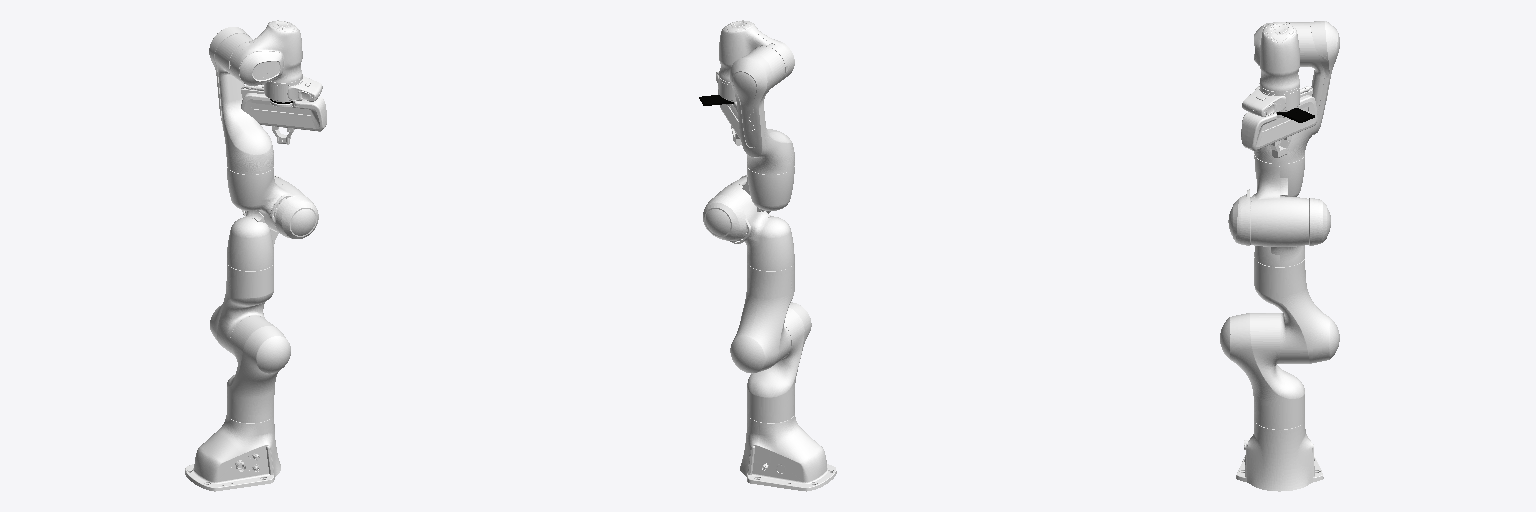
The robot description file, URDF, robot "panda":
<?xml version="1.0" ?>
<!-- =================================================================================== -->
<!-- |    This document was autogenerated by xacro from panda_arm_hand.urdf.xacro      | -->
<!-- |    EDITING THIS FILE BY HAND IS NOT RECOMMENDED                                 | -->
<!-- =================================================================================== -->
<robot name="panda" xmlns:xacro="http://www.ros.org/wiki/xacro">
  <link name="panda_link0">
  	<inertial>
      <origin rpy="0 0 0" xyz="0 0 0.05"/>
       <mass value="2.9"/>
       <inertia ixx="0.1" ixy="0" ixz="0" iyy="0.1" iyz="0" izz="0.1"/>
    </inertial>
    <visual>
      <geometry>
        <mesh filename="package://meshes/visual/link0.obj"/>
      </geometry>
      <material name="panda_white">
    		<color rgba="1. 1. 1. 1."/>
  		</material>
    </visual>
    <collision>
      <geometry>
        <mesh filename="package://meshes/collision/link0.obj"/>
      </geometry>
      <material name="panda_white"/>
    </collision>
  </link>
  <link name="panda_link1">
  	<inertial>
      <origin rpy="0 0 0" xyz="0 -0.04 -0.05"/>
       <mass value="2.7"/>
       <inertia ixx="0.1" ixy="0" ixz="0" iyy="0.1" iyz="0" izz="0.1"/>
    </inertial>
    <visual>
      <geometry>
        <mesh filename="package://meshes/visual/link1.obj"/>
      </geometry>
      <material name="panda_white"/>
    </visual>
    <collision>
      <geometry>
        <mesh filename="package://meshes/collision/link1.obj"/>
      </geometry>
      <material name="panda_white"/>
    </collision>
  </link>
  <joint name="panda_joint1" type="revolute">
    <safety_controller k_position="100.0" k_velocity="40.0" soft_lower_limit="-2.8973" soft_upper_limit="2.8973"/>
    <origin rpy="0 0 0" xyz="0 0 0.333"/>
    <parent link="panda_link0"/>
    <child link="panda_link1"/>
    <axis xyz="0 0 1"/>
    <limit effort="87" lower="-2.9671" upper="2.9671" velocity="2.1750"/>
  </joint>
  <link name="panda_link2">
  	<inertial>
      <origin rpy="0 0 0" xyz="0 -0.04 0.06"/>
       <mass value="2.73"/>
       <inertia ixx="0.1" ixy="0" ixz="0" iyy="0.1" iyz="0" izz="0.1"/>
    </inertial>
    <visual>
      <geometry>
        <mesh filename="package://meshes/visual/link2.obj"/>
      </geometry>
      <material name="panda_white"/>
    </visual>
    <collision>
      <geometry>
        <mesh filename="package://meshes/collision/link2.obj"/>
      </geometry>
      <material name="panda_white"/>
    </collision>
  </link>
  <joint name="panda_joint2" type="revolute">
    <safety_controller k_position="100.0" k_velocity="40.0" soft_lower_limit="-1.7628" soft_upper_limit="1.7628"/>
    <origin rpy="-1.57079632679 0 0" xyz="0 0 0"/>
    <parent link="panda_link1"/>
    <child link="panda_link2"/>
    <axis xyz="0 0 1"/>
    <limit effort="87" lower="-1.8326" upper="1.8326" velocity="2.1750"/>
  </joint>
  <link name="panda_link3">
	  <inertial>
      <origin rpy="0 0 0" xyz="0.01 0.01 -0.05"/>
       <mass value="2.04"/>
       <inertia ixx="0.1" ixy="0" ixz="0" iyy="0.1" iyz="0" izz="0.1"/>
    </inertial>
    <visual>
      <geometry>
        <mesh filename="package://meshes/visual/link3.obj"/>
      </geometry>
      <material name="panda_red">
    		<color rgba="1. 1. 1. 1."/>
  		</material>
    </visual>
    <collision>
      <geometry>
        <mesh filename="package://meshes/collision/link3.obj"/>
      </geometry>
    </collision>
  </link>
  <joint name="panda_joint3" type="revolute">
    <safety_controller k_position="100.0" k_velocity="40.0" soft_lower_limit="-2.8973" soft_upper_limit="2.8973"/>
    <origin rpy="1.57079632679 0 0" xyz="0 -0.316 0"/>
    <parent link="panda_link2"/>
    <child link="panda_link3"/>
    <axis xyz="0 0 1"/>
    <limit effort="87" lower="-2.9671" upper="2.9671" velocity="2.1750"/>
  </joint>
  <link name="panda_link4">
  	<inertial>
      <origin rpy="0 0 0" xyz="-0.03 0.03 0.02"/>
       <mass value="2.08"/>
       <inertia ixx="0.1" ixy="0" ixz="0" iyy="0.1" iyz="0" izz="0.1"/>
    </inertial>
    <visual>
      <geometry>
        <mesh filename="package://meshes/visual/link4.obj"/>
      </geometry>
      <material name="panda_white"/>
    </visual>
    <collision>
      <geometry>
        <mesh filename="package://meshes/collision/link4.obj"/>
      </geometry>
      <material name="panda_white"/>
    </collision>
  </link>
  <joint name="panda_joint4" type="revolute">
    <safety_controller k_position="100.0" k_velocity="40.0" soft_lower_limit="-3.0718" soft_upper_limit="-0.0698"/>
    <origin rpy="1.57079632679 0 0" xyz="0.0825 0 0"/>
    <parent link="panda_link3"/>
    <child link="panda_link4"/>
    <axis xyz="0 0 1"/>
    <limit effort="87" lower="-3.1416" upper="0.0" velocity="2.1750"/>
  </joint>
  <link name="panda_link5">
  	<inertial>
      <origin rpy="0 0 0" xyz="0 0.04 -0.12"/>
       <mass value="3"/>
       <inertia ixx="0.1" ixy="0" ixz="0" iyy="0.1" iyz="0" izz="0.1"/>
    </inertial>
    <visual>
      <geometry>
        <mesh filename="package://meshes/visual/link5.obj"/>
      </geometry>
      <material name="panda_white"/>
    </visual>
    <collision>
      <geometry>
        <mesh filename="package://meshes/collision/link5.obj"/>
      </geometry>
      <material name="panda_white"/>
    </collision>
  </link>
  <joint name="panda_joint5" type="revolute">
    <safety_controller k_position="100.0" k_velocity="40.0" soft_lower_limit="-2.8973" soft_upper_limit="2.8973"/>
    <origin rpy="-1.57079632679 0 0" xyz="-0.0825 0.384 0"/>
    <parent link="panda_link4"/>
    <child link="panda_link5"/>
    <axis xyz="0 0 1"/>
    <limit effort="12" lower="-2.9671" upper="2.9671" velocity="2.6100"/>
  </joint>
  <link name="panda_link6">
  	<inertial>
      <origin rpy="0 0 0" xyz="0.04 0 0"/>
       <mass value="1.3"/>
       <inertia ixx="0.1" ixy="0" ixz="0" iyy="0.1" iyz="0" izz="0.1"/>
    </inertial>
    <visual>
      <geometry>
        <mesh filename="package://meshes/visual/link6.obj"/>
      </geometry>
      <material name="panda_white"/>
    </visual>
    <collision>
      <geometry>
        <mesh filename="package://meshes/collision/link6.obj"/>
      </geometry>
      <material name="panda_white"/>
    </collision>
  </link>
  <joint name="panda_joint6" type="revolute">
    <safety_controller k_position="100.0" k_velocity="40.0" soft_lower_limit="-0.0175" soft_upper_limit="3.7525"/>
    <origin rpy="1.57079632679 0 0" xyz="0 0 0"/>
    <parent link="panda_link5"/>
    <child link="panda_link6"/>
    <axis xyz="0 0 1"/>
    <limit effort="12" lower="-0.0873" upper="3.8223" velocity="2.6100"/>
  </joint>
  <link name="panda_link7">
  	<inertial>
      <origin rpy="0 0 0" xyz="0 0 0.08"/>
       <mass value=".2"/>
       <inertia ixx="0.1" ixy="0" ixz="0" iyy="0.1" iyz="0" izz="0.1"/>
    </inertial>
    <visual>
      <geometry>
        <mesh filename="package://meshes/visual/link7.obj"/>
      </geometry>
      <material name="panda_white"/>
    </visual>
    <collision>
      <geometry>
        <mesh filename="package://meshes/collision/link7.obj"/>
      </geometry>
      <material name="panda_white"/>
    </collision>
  </link>
  <joint name="panda_joint7" type="revolute">
    <safety_controller k_position="100.0" k_velocity="40.0" soft_lower_limit="-2.8973" soft_upper_limit="2.8973"/>
    <origin rpy="1.57079632679 0 0" xyz="0.088 0 0"/>
    <parent link="panda_link6"/>
    <child link="panda_link7"/>
    <axis xyz="0 0 1"/>
    <limit effort="12" lower="-2.9671" upper="2.9671" velocity="2.6100"/>
  </joint>
  <link name="panda_link8">
  	 <inertial>
      <origin rpy="0 0 0" xyz="0 0 0"/>
       <mass value="0.0"/>
       <inertia ixx="0.1" ixy="0" ixz="0" iyy="0.1" iyz="0" izz="0.1"/>
    </inertial>
  </link>
  <joint name="panda_joint8" type="fixed">
    <origin rpy="0 0 0" xyz="0 0 0.112"/>
    <parent link="panda_link7"/>
    <child link="panda_link8"/>
    <axis xyz="0 0 0"/>
  </joint>

  <joint name="panda_hand_joint" type="fixed">
    <parent link="panda_link8"/>
    <child link="panda_hand"/>
    <origin rpy="0 0 -0.785398163397" xyz="0 0 0"/>
  </joint>
  <link name="panda_hand">
  	<inertial>
      <origin rpy="0 0 0" xyz="0 0 0.04"/>
       <mass value=".81"/>
       <inertia ixx="0.1" ixy="0" ixz="0" iyy="0.1" iyz="0" izz="0.1"/>
    </inertial>
    <visual>
      <geometry>
        <mesh filename="package://meshes/visual/hand.obj"/>
      </geometry>
      <material name="panda_white"/>
    </visual>
    <collision>
      <geometry>
        <mesh filename="package://meshes/collision/hand.obj"/>
      </geometry>
      <material name="panda_white"/>
    </collision>
  </link>
  <link name="panda_leftfinger">
       <contact>
      <friction_anchor/>
      <stiffness value="30000.0"/>
      <damping value="1000.0"/>
      <spinning_friction value="0.1"/>
      <lateral_friction value="1.0"/>
    </contact>
  	<inertial>
      <origin rpy="0 0 0" xyz="0 0.01 0.02"/>
       <mass value="0.1"/>
       <inertia ixx="0.1" ixy="0" ixz="0" iyy="0.1" iyz="0" izz="0.1"/>
    </inertial>
    <visual>
      <geometry>
        <mesh filename="package://meshes/visual/finger.obj"/>
      </geometry>
      <material name="panda_white"/>
    </visual>
    <collision>
      <geometry>
        <mesh filename="package://meshes/collision/finger.obj"/>
      </geometry>
      <material name="panda_white"/>
    </collision>
  </link>
  <link name="panda_rightfinger">
        <contact>
      <friction_anchor/>
      <stiffness value="30000.0"/>
      <damping value="1000.0"/>
      <spinning_friction value="0.1"/>
      <lateral_friction value="1.0"/>
    </contact>

  	<inertial>
      <origin rpy="0 0 0" xyz="0 -0.01 0.02"/>
       <mass value="0.1"/>
       <inertia ixx="0.1" ixy="0" ixz="0" iyy="0.1" iyz="0" izz="0.1"/>
    </inertial>
    <visual>
      <origin rpy="0 0 3.14159265359" xyz="0 0 0"/>
      <geometry>
        <mesh filename="package://meshes/visual/finger.obj"/>
      </geometry>
      <material name="panda_white"/>
    </visual>
    <collision>
      <origin rpy="0 0 3.14159265359" xyz="0 0 0"/>
      <geometry>
        <mesh filename="package://meshes/collision/finger.obj"/>
      </geometry>
      <material name="panda_white"/>
    </collision>
  </link>
  <joint name="panda_finger_joint1" type="prismatic">
    <parent link="panda_hand"/>
    <child link="panda_leftfinger"/>
    <origin rpy="0 0 0" xyz="0 0 0.0584"/>
    <axis xyz="0 1 0"/>
    <limit effort="20" lower="0.0" upper="0.04" velocity="0.2"/>
  </joint>
  <joint name="panda_finger_joint2" type="prismatic">
    <parent link="panda_hand"/>
    <child link="panda_rightfinger"/>
    <origin rpy="0 0 0" xyz="0 0 0.0584"/>
    <axis xyz="0 -1 0"/>
    <limit effort="20" lower="0.0" upper="0.04" velocity="0.2"/>
    <mimic joint="panda_finger_joint1"/>
  </joint>
   <link name="panda_grasptarget">
 <inertial>
      <origin rpy="0 0 0" xyz="0 0 0"/>
       <mass value="0.0"/>
       <inertia ixx="0.1" ixy="0" ixz="0" iyy="0.1" iyz="0" izz="0.1"/>
    </inertial>
   </link>
   <joint name="panda_grasptarget_hand" type="fixed">
    <parent link="panda_hand"/>
    <child link="panda_grasptarget"/>
    <origin rpy="0 0 0" xyz="0 0 0.105"/>
  </joint>
  

  <!-- Wrist camera bracket appended after original Panda hand/finger/grasp-target joints.
       This keeps PyBullet's original link/joint indices intact:
       panda_hand=8, leftfinger=9, rightfinger=10, panda_grasptarget=11. -->

  <!-- Wrist camera bracket mounted at the panda_link8 / panda_hand interface.
       Mesh frame note: the OBJ origin is the ring center; OBJ +Y is aligned with the Franka hand +Z direction.
       The long bracket tab points along panda_hand +Y after the hand yaw alignment. -->
  <link name="panda_wristcam_bracket">
    <inertial>
      <origin rpy="0 0 0" xyz="0.0003377 0.0032582 -0.0336233"/>
      <mass value="0.05"/>
      <inertia ixx="5.714e-5" ixy="0" ixz="0" iyy="7.300e-5" iyz="0" izz="1.607e-5"/>
    </inertial>
    <visual>
      <geometry>
        <mesh filename="package://meshes/visual/wristcam_bracket.obj"/>
      </geometry>
      <material name="wristcam_bracket_black">
        <color rgba="0.04 0.04 0.035 1"/>
      </material>
    </visual>
    <collision>
      <geometry>
        <mesh filename="package://meshes/visual/wristcam_bracket.obj"/>
      </geometry>
    </collision>
  </link>
  <joint name="panda_wristcam_bracket_joint" type="fixed">
    <parent link="panda_link8"/>
    <child link="panda_wristcam_bracket"/>
    <!-- OBJ local -Z is the bracket tab direction. Align it with panda_hand +Z / gripper outward direction. -->
    <origin rpy="-1.57 0 0.8" xyz="0 0 0.0"/>
  </joint>

</robot>

--- Render facts (derived) ---
Views: 3 orthographic renders of the robot side by side, from view 1: azimuth 30°, elevation 25°; view 2: azimuth 150°, elevation 25°; view 3: azimuth 270°, elevation 25°.
Model panda with 14 links and 13 joints (7 revolute, 2 prismatic, 4 fixed), rooted at panda_link0, posed all joints at 0.
Visible links, largest first — view 1: panda_link0, panda_link1, panda_link5, panda_link4, panda_link6, panda_link2, panda_link3, panda_hand, panda_link7; view 2: panda_link0, panda_link5, panda_link2, panda_link3, panda_link1, panda_link6, panda_link4; view 3: panda_link1, panda_link2, panda_link0, panda_link4, panda_link5, panda_link3, panda_link6, panda_hand, panda_link7.
Boxes of the visible links, x1,y1,x2,y2 form: panda_link0: (185, 415, 280, 491); panda_link1: (227, 316, 290, 422); panda_link5: (209, 27, 273, 174); panda_link4: (227, 167, 318, 238); panda_link6: (230, 20, 302, 85); panda_link2: (210, 264, 273, 355); panda_link3: (227, 175, 291, 270); panda_hand: (241, 85, 326, 131); panda_link7: (261, 76, 322, 102); panda_link0: (740, 415, 836, 491); panda_link5: (730, 46, 794, 174); panda_link2: (730, 263, 794, 373); panda_link3: (703, 184, 794, 270); panda_link1: (747, 302, 811, 422); panda_link6: (719, 20, 794, 82); panda_link4: (728, 166, 794, 213); panda_link1: (1220, 313, 1304, 429); panda_link2: (1254, 257, 1339, 363); panda_link0: (1236, 420, 1323, 491); panda_link4: (1228, 154, 1304, 246); panda_link5: (1254, 21, 1339, 163); panda_link3: (1254, 196, 1330, 266); panda_link6: (1254, 22, 1299, 91); panda_hand: (1241, 86, 1317, 150); panda_link7: (1242, 83, 1299, 116).
Bounding box of the posed robot: 0.3253 × 0.2593 × 1.11 m (x, y, z).
Meshes: 11 distinct files referenced, 12 mesh visuals loaded (11 OBJ).
